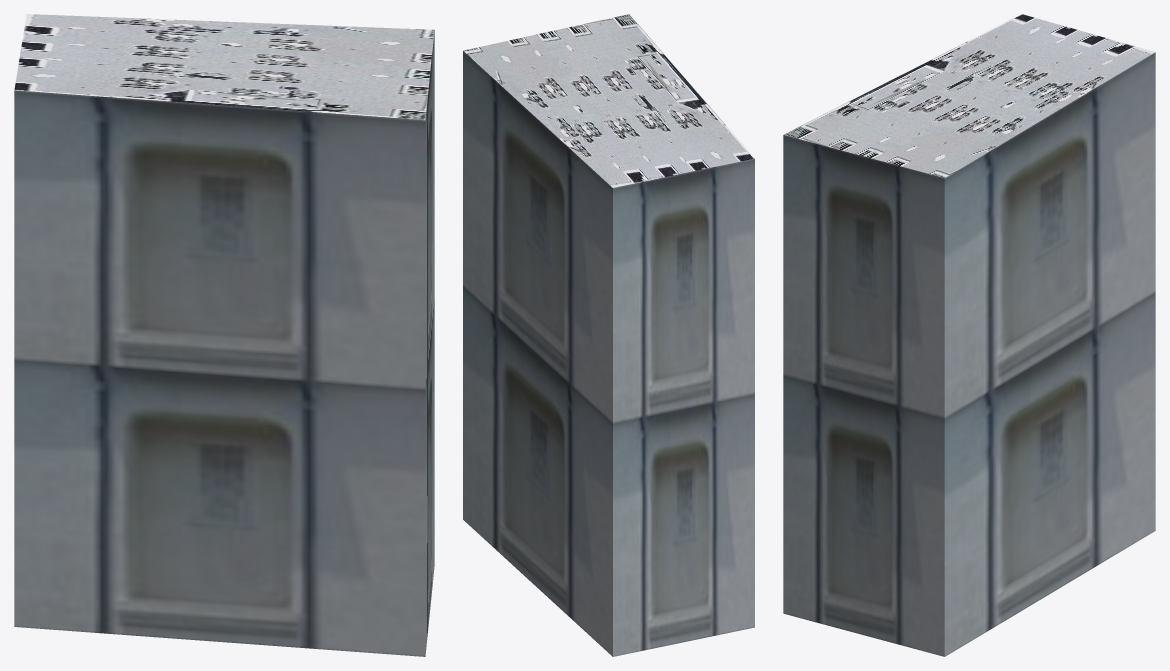
The model's file is ResTex__3943.fbx.
3 renders of one model, left to right at view 1: azimuth 30°, elevation 25°; view 2: azimuth 150°, elevation 25°; view 3: azimuth 270°, elevation 25°, orthographic. The views are drawn at different scales.
Visible parts, largest first — view 1: CityEngineMaterial_17_m, CityEngineMaterial_4_m; view 2: CityEngineMaterial_17_m, CityEngineMaterial_4_m; view 3: CityEngineMaterial_17_m, CityEngineMaterial_4_m.
Part boxes in pixels (x1=…): CityEngineMaterial_17_m: x1=14, y1=30, x2=434, y2=656; CityEngineMaterial_4_m: x1=14, y1=14, x2=434, y2=120; CityEngineMaterial_17_m: x1=463, y1=51, x2=754, y2=656; CityEngineMaterial_4_m: x1=463, y1=14, x2=754, y2=187; CityEngineMaterial_17_m: x1=783, y1=52, x2=1155, y2=656; CityEngineMaterial_4_m: x1=783, y1=14, x2=1155, y2=177.
Size of the model in its own units: 4.41 by 6 by 4.23.
Materials: 2 (2 with a texture image).
